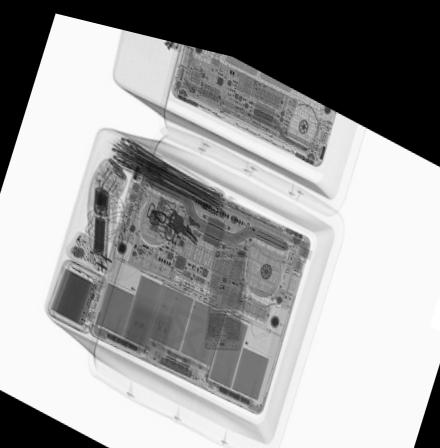Powerbank: (44, 260, 106, 332)
